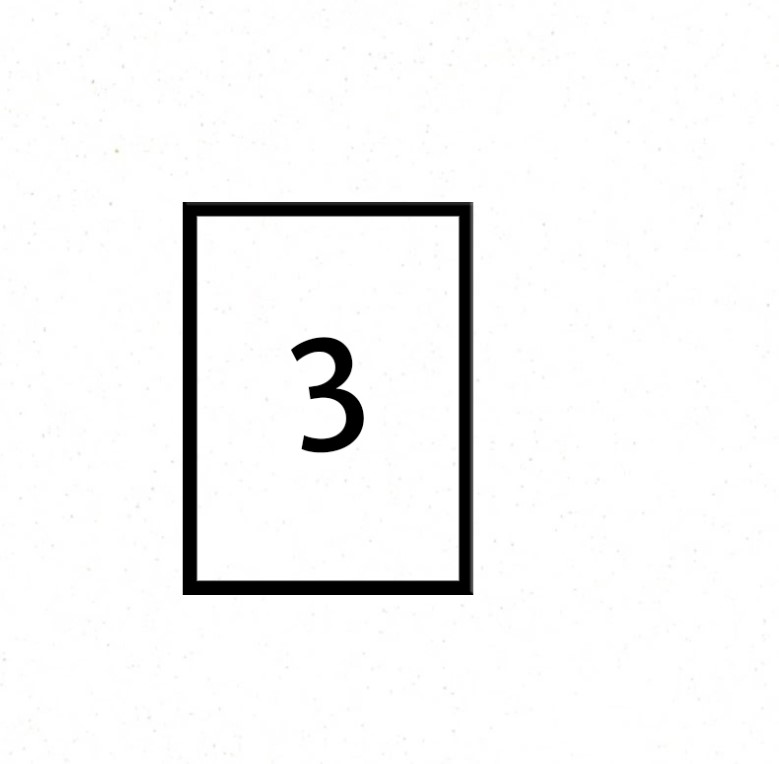three: (214, 240, 445, 548)
